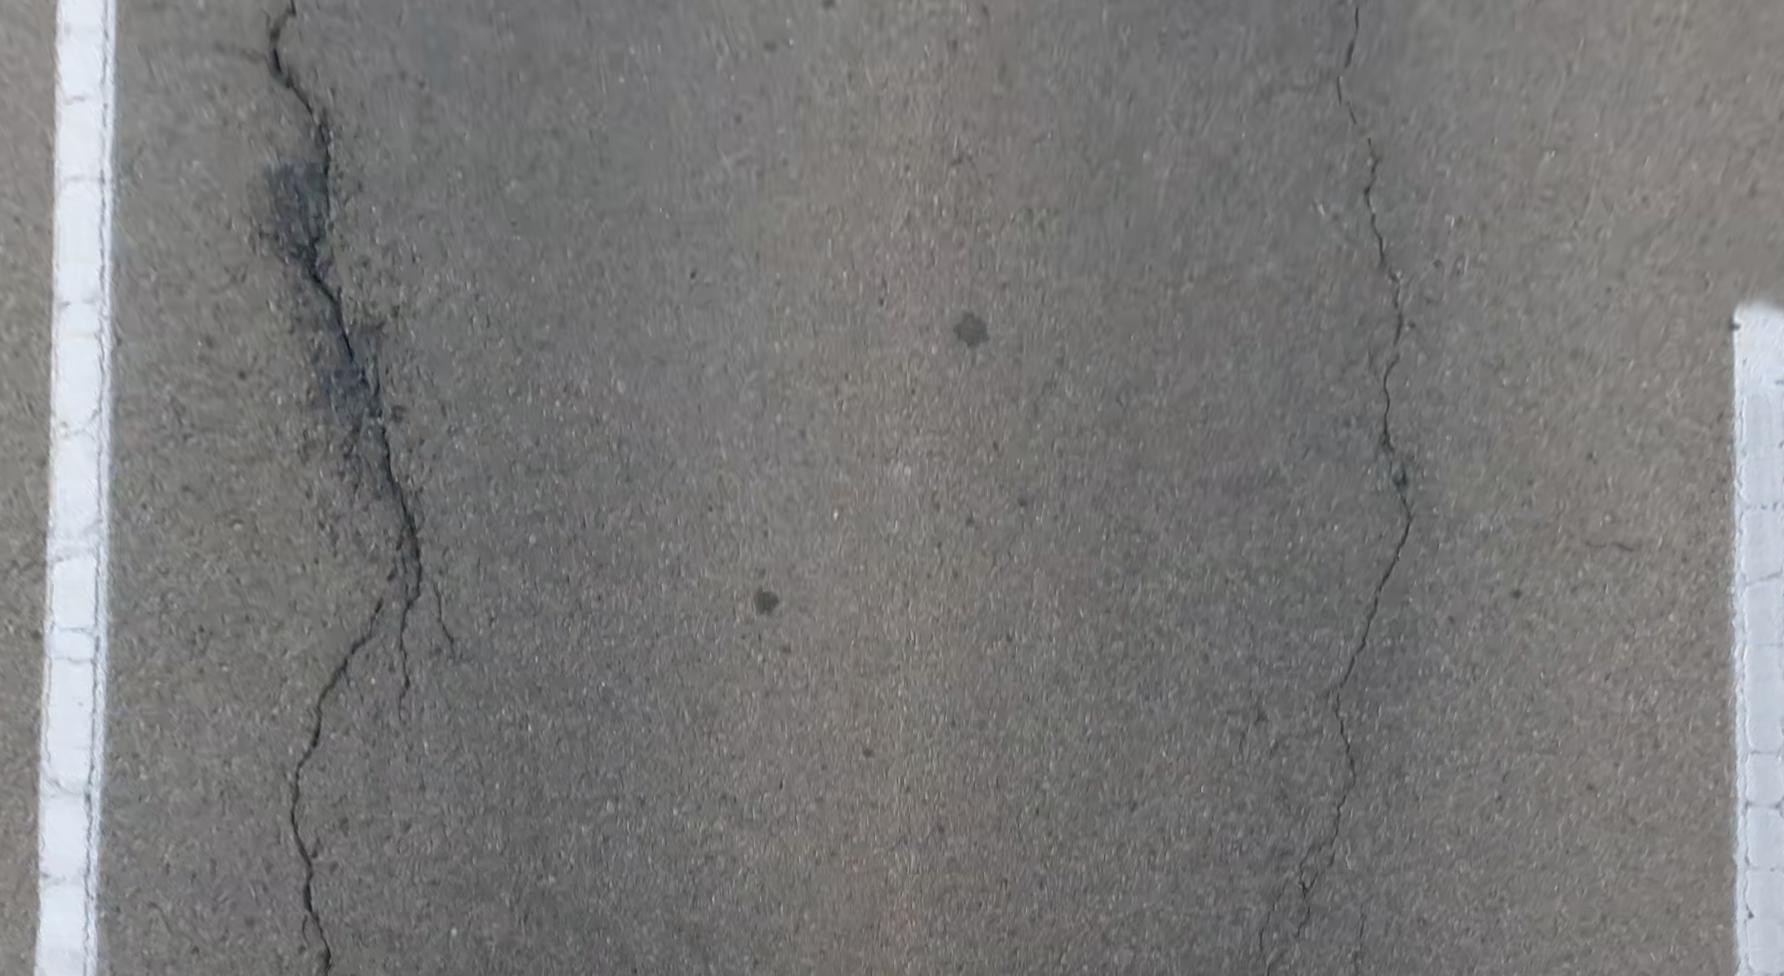pothole: (256, 155, 342, 280)
